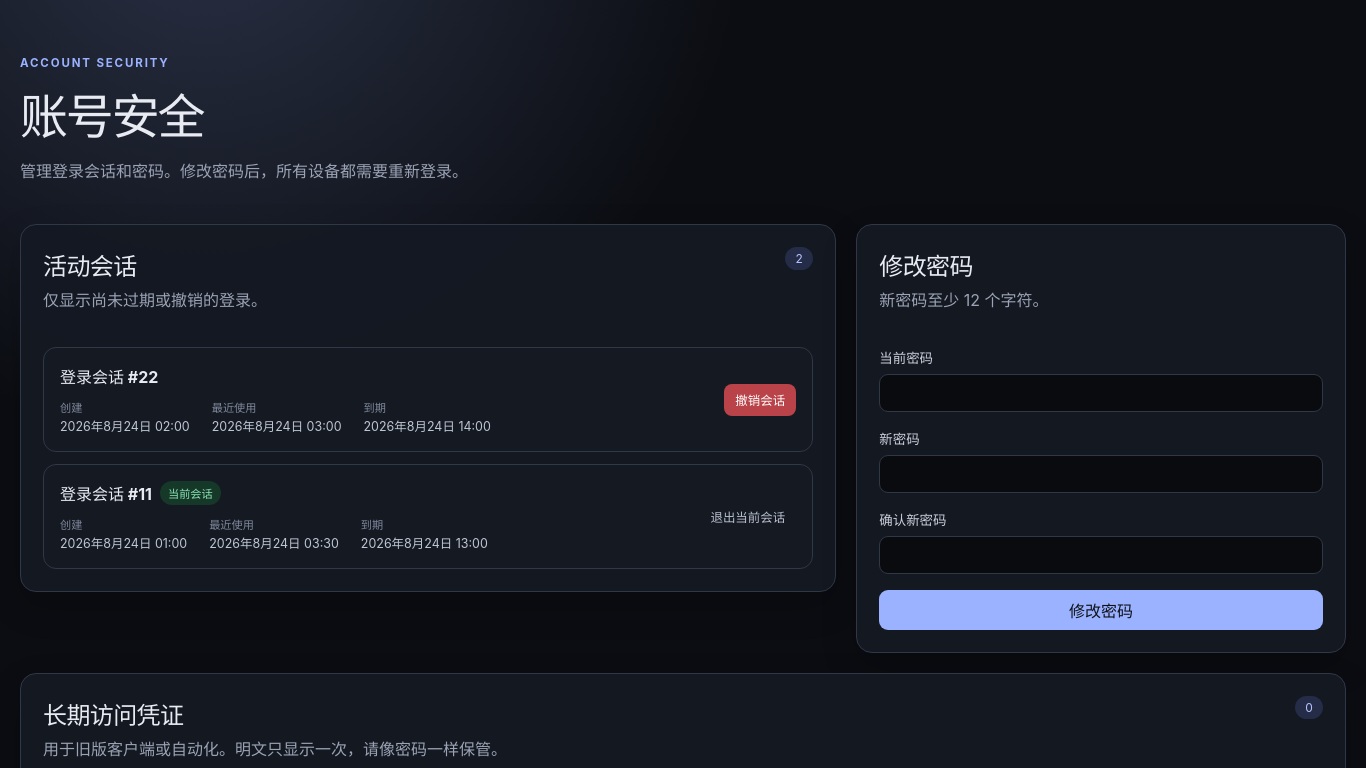
Test: AccountSecurityPage › keeps a session visible and offers retry when revocation fails
The image size is (1366, 768).
Click the button "撤销会话" at (760, 400), box [724,384,796,416]
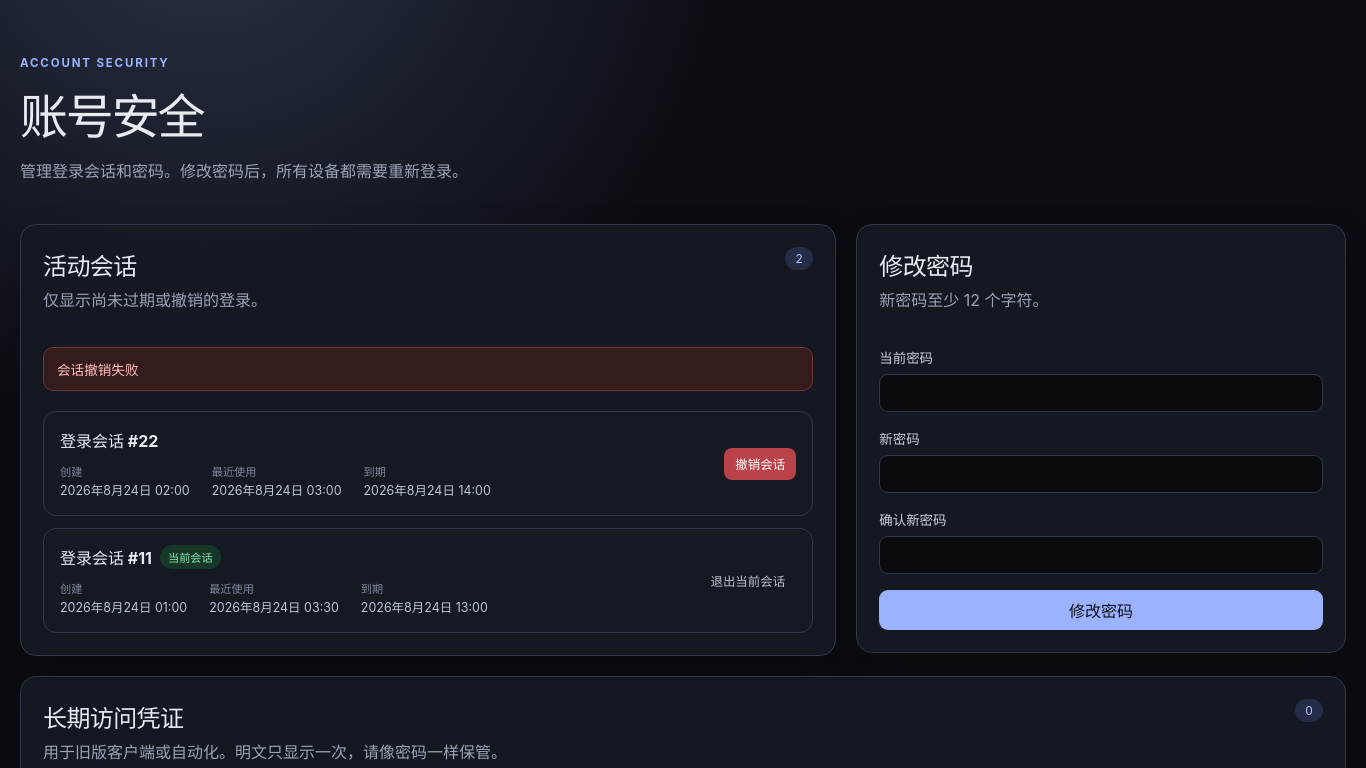
Check: the element with test id "account-session-22" is shown, box [43,411,813,516]
Check: the message reads "会话撤销失败", box [57,362,139,378]
